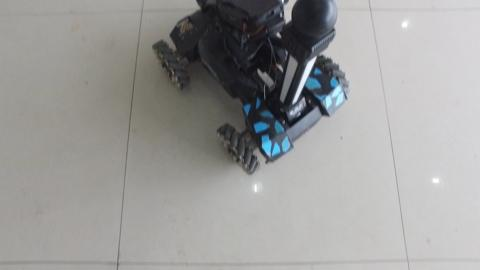chariot: (137, 2, 356, 168)
